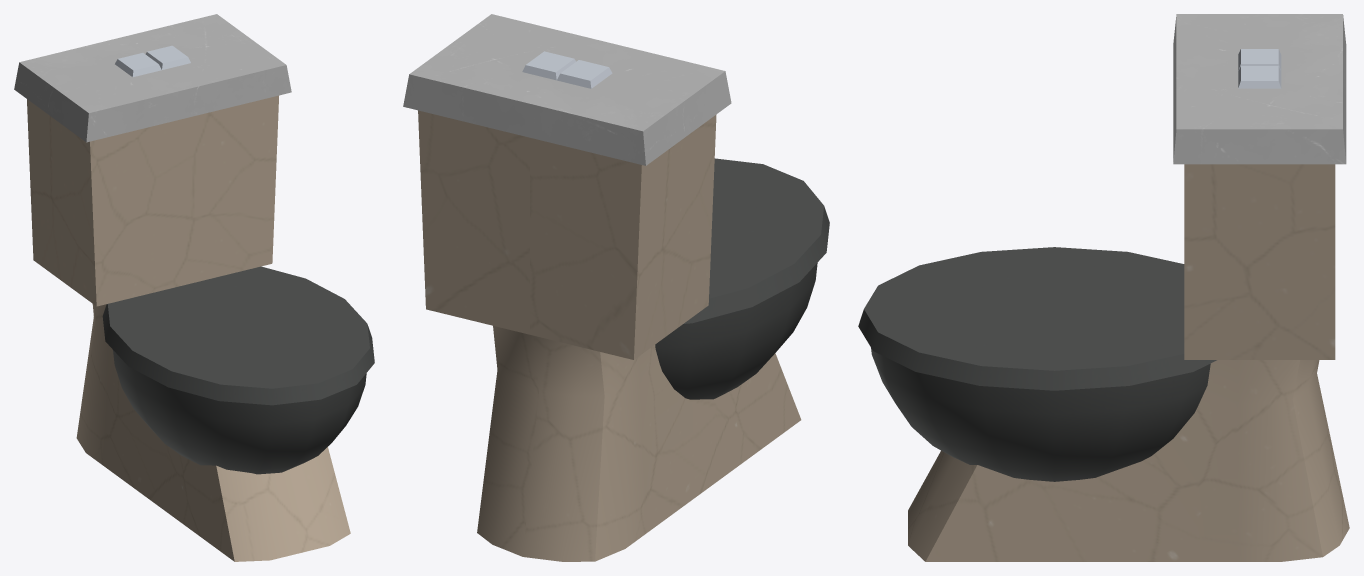
The model's file is Toilet.fbx.
The picture shows the model from 3 angles, left to right: view 1: azimuth 30°, elevation 25°; view 2: azimuth 150°, elevation 25°; view 3: azimuth 270°, elevation 25°; orthographic projection. The views are drawn at different scales.
Parts seen in each view (by area): view 1: RT_IP_Furniture:body, RT_IP_Furniture:seat; view 2: RT_IP_Furniture:body, RT_IP_Furniture:seat; view 3: RT_IP_Furniture:body, RT_IP_Furniture:seat.
Boxes of the visible parts, bbox=[...] form: RT_IP_Furniture:body: bbox=[14, 14, 350, 561]; RT_IP_Furniture:seat: bbox=[102, 266, 374, 474]; RT_IP_Furniture:body: bbox=[403, 14, 801, 561]; RT_IP_Furniture:seat: bbox=[655, 158, 829, 399]; RT_IP_Furniture:body: bbox=[908, 14, 1349, 561]; RT_IP_Furniture:seat: bbox=[858, 247, 1216, 481].
Size of the model in its own units: 0.5318 by 0.8919 by 0.858.
